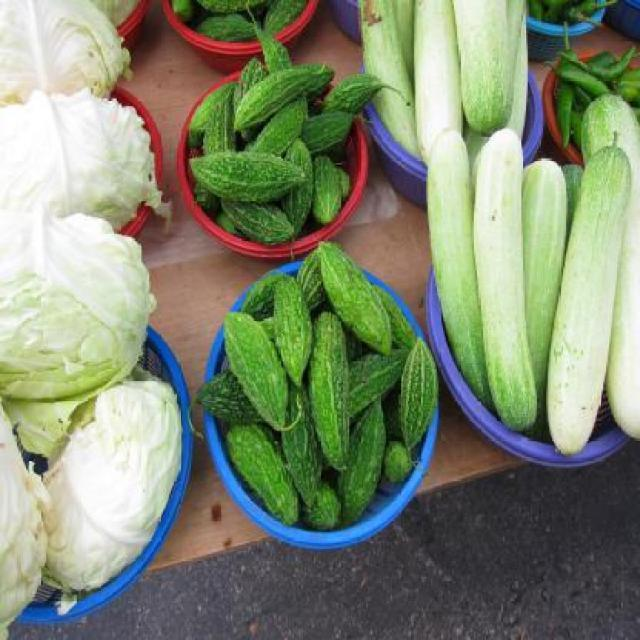Zucchini: (541, 124, 639, 467), (423, 128, 492, 420), (472, 134, 538, 434), (513, 157, 570, 408), (351, 1, 423, 164), (410, 0, 468, 177), (449, 0, 511, 142)
